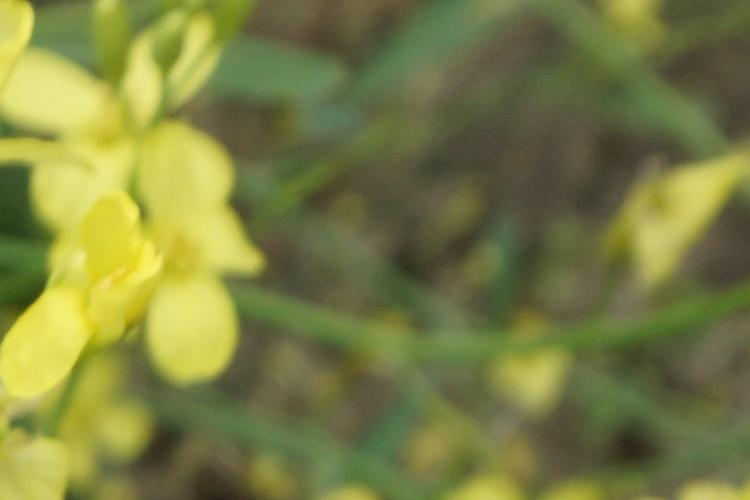yellow: (24, 58, 251, 265), (17, 204, 225, 406)
